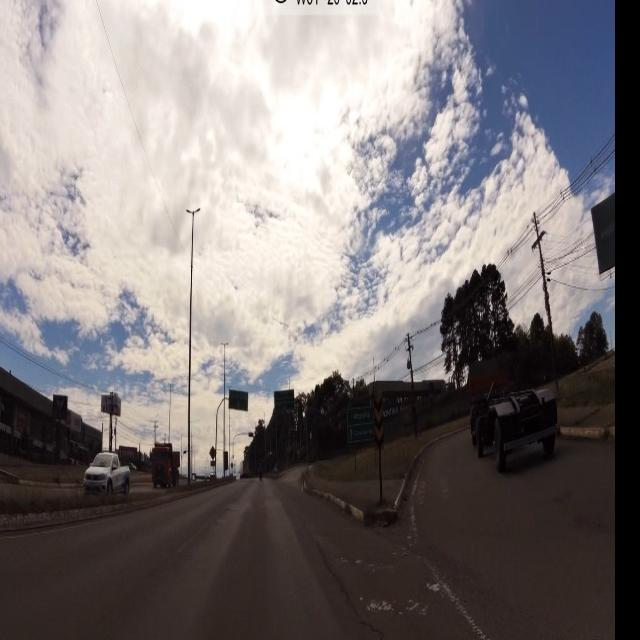MP: (372, 387, 383, 453)
